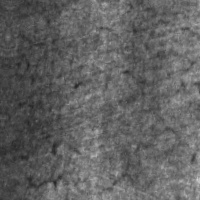crazing: (112, 1, 199, 197), (6, 115, 180, 199), (5, 27, 168, 108)
